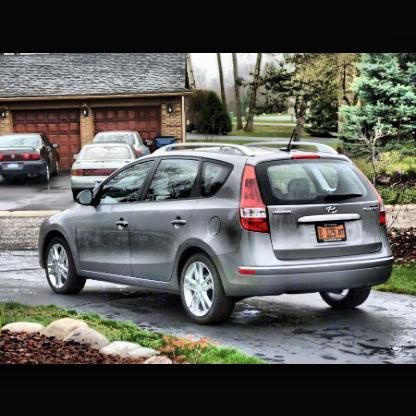Hyundai Elantra Touring Hatchback 2012: (34, 128, 397, 324)
